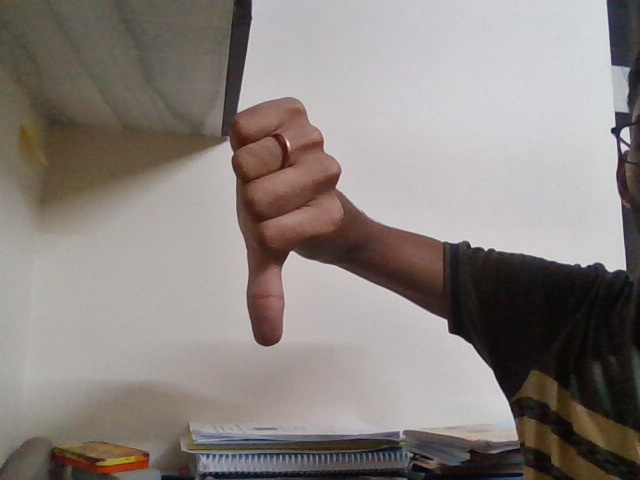No: (204, 80, 372, 370)
